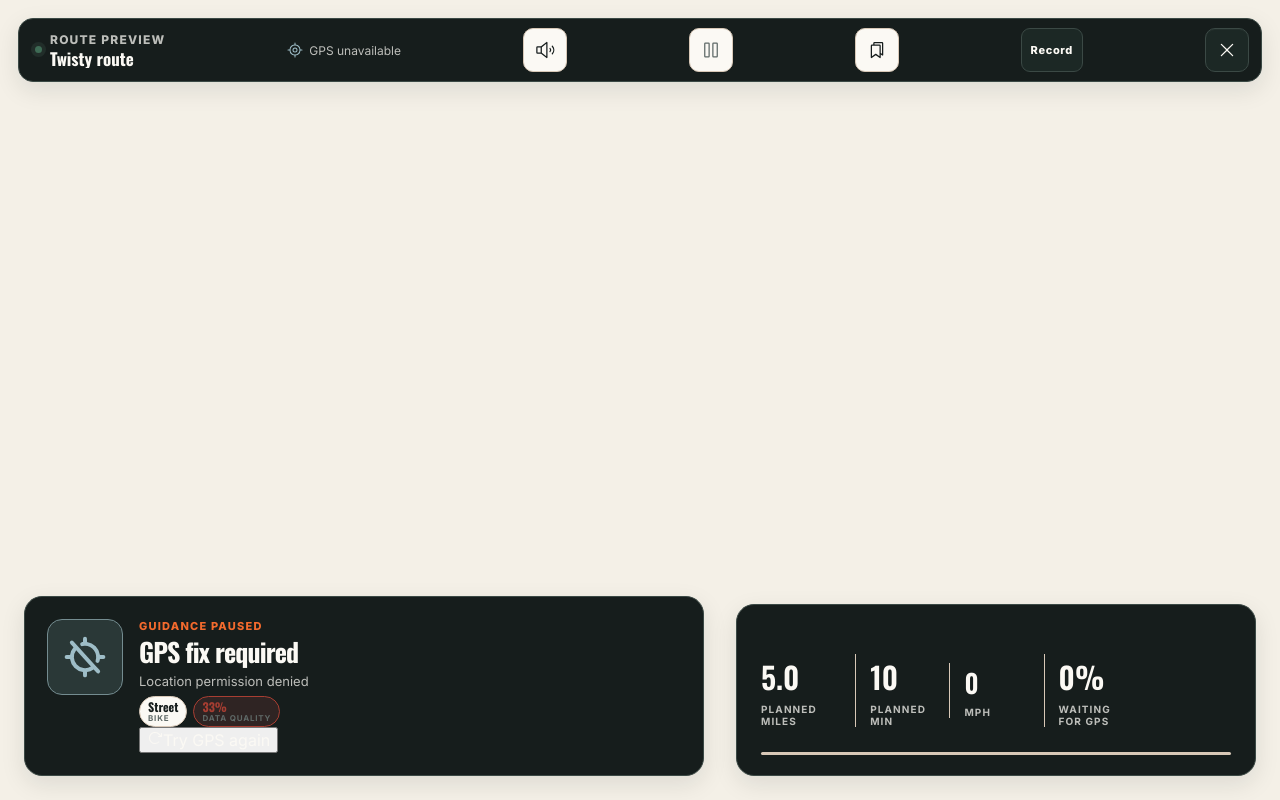
Scenario: ride HUD GPS safety › keeps a durable checkpoint when the rider pauses for an overnight stop
The image size is (1280, 800).
Step 1. Click the button named "Pause for overnight stop" → (877, 50), box [855,28,899,72]
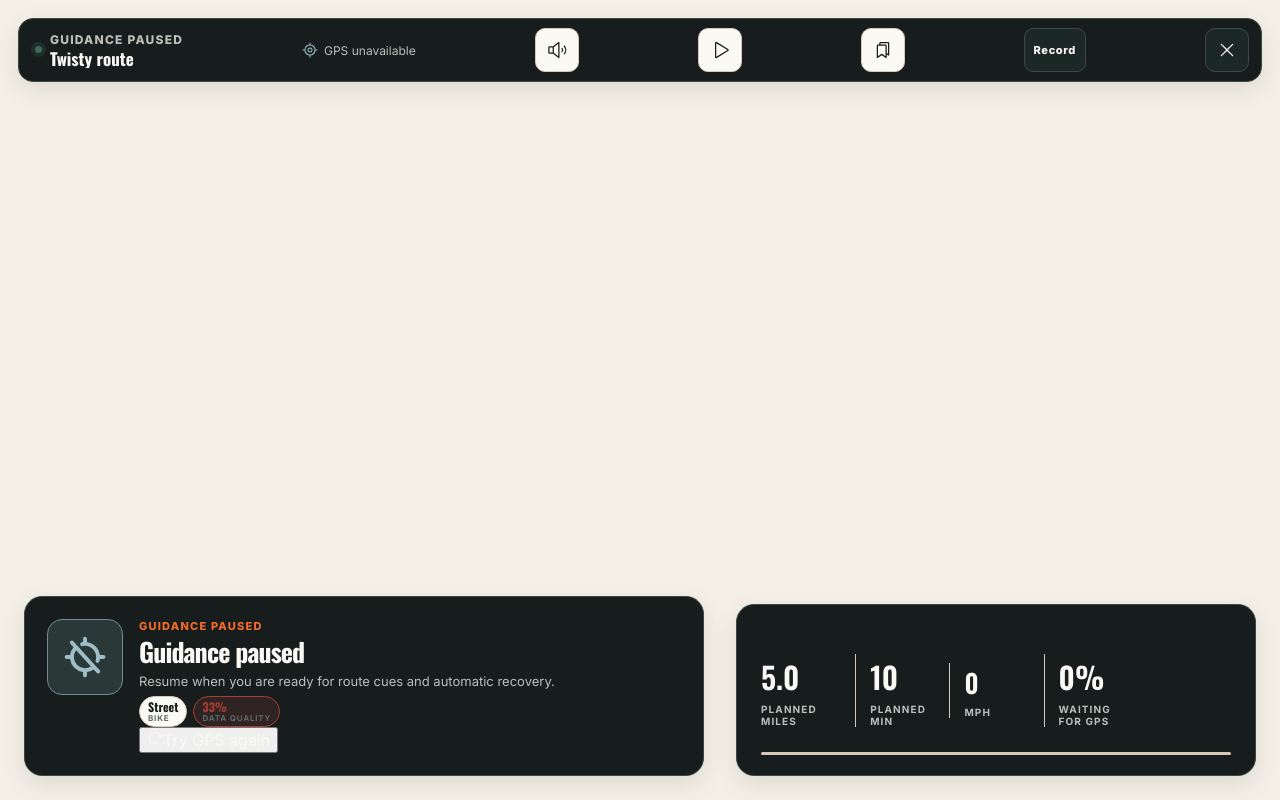
Expected: the heading "Guidance paused" is shown, [139,632,304,672]
